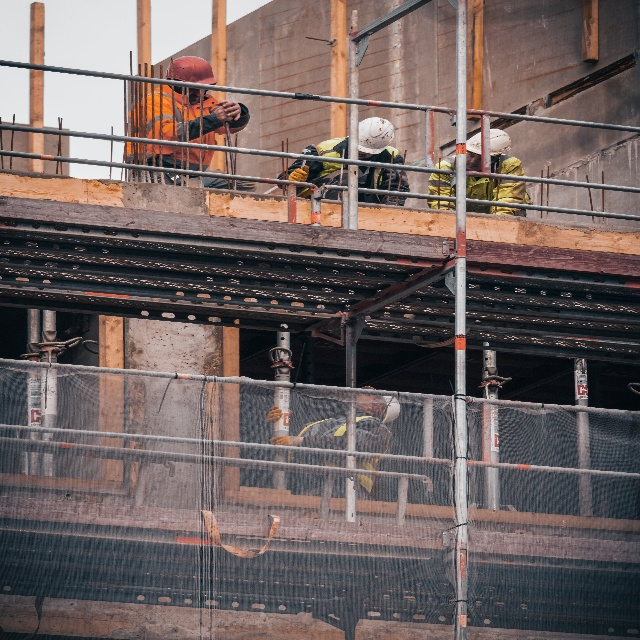Guantes: (266, 405, 293, 423), (288, 164, 309, 182), (268, 435, 290, 447)
Sin_guantes: (218, 99, 241, 122), (214, 106, 233, 124)
